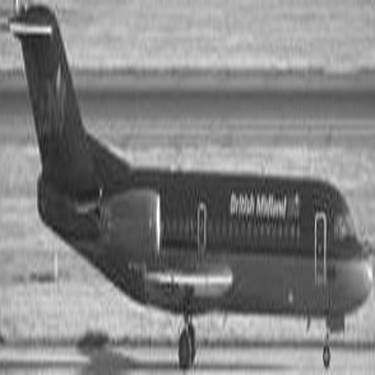airplane: (5, 4, 370, 356)
